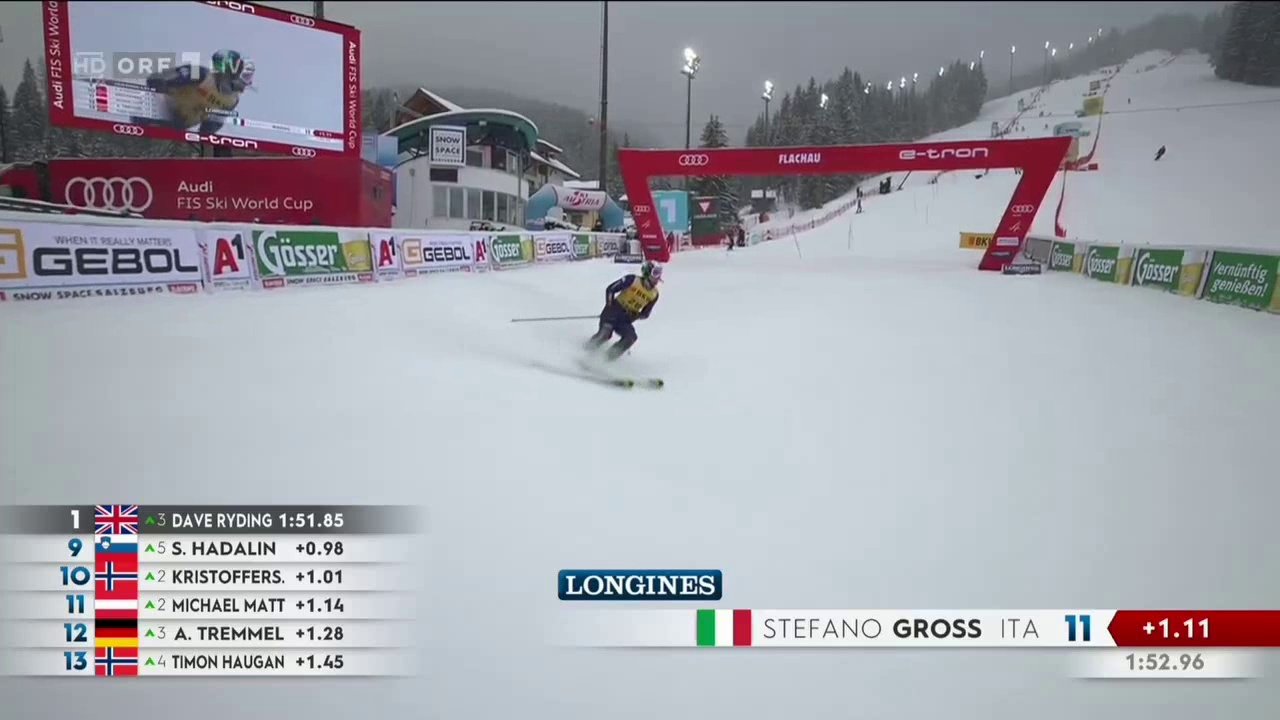a1: (209, 236, 253, 279), (375, 241, 404, 271)
audi: (54, 170, 159, 217), (678, 153, 715, 170), (111, 125, 147, 138), (288, 148, 319, 161)
etron: (899, 145, 986, 166), (201, 136, 260, 150)
flachau: (777, 153, 826, 167)
goesser: (258, 234, 362, 280), (1208, 259, 1276, 305), (1135, 256, 1187, 290), (1086, 252, 1124, 282)
longines: (564, 572, 726, 605)
unserheer: (692, 199, 722, 224)
